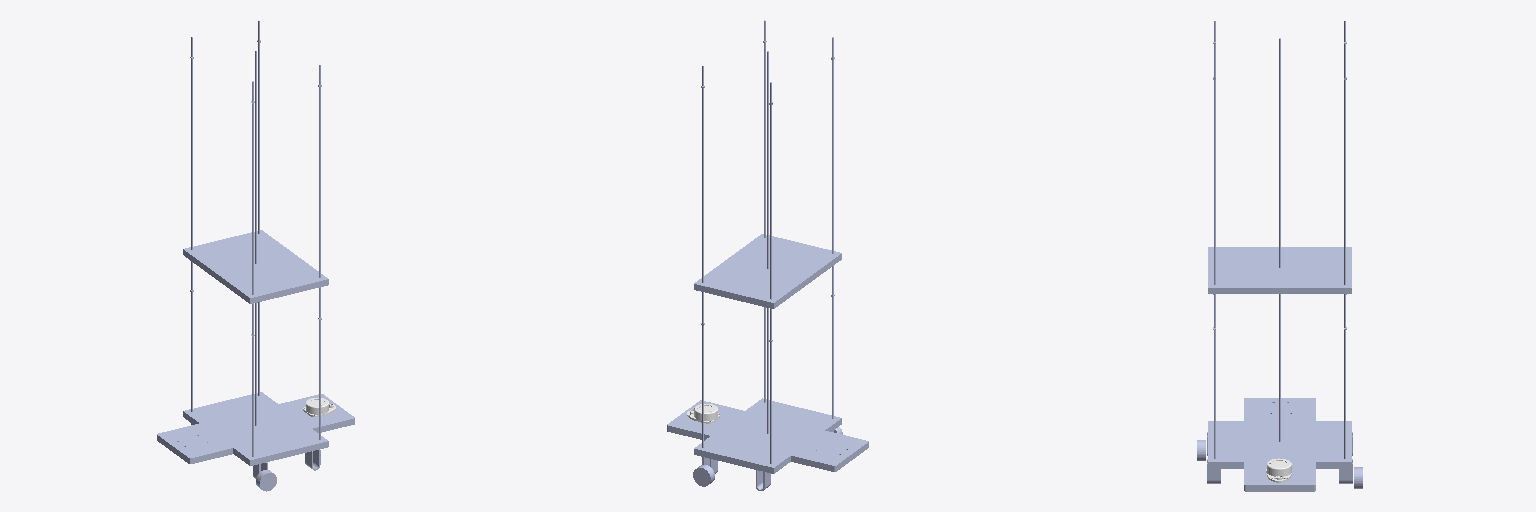
The robot description file, URDF, robot "lib_1":
<?xml version="1.0" encoding="utf-8"?>
<!-- This URDF was automatically created by SolidWorks to URDF Exporter! Originally created by [author] ([email redacted])
     Commit Version: 1.6.0-4-g7f85cfe  Build Version: 1.6.7995.38578
     For more information, please see http://wiki.ros.org/sw_urdf_exporter -->
<robot
  name="lib_1">

  <link
    name="base_link">
    <inertial>
      <origin
        xyz="-9.14954223496522E-12 2.15231305000785E-12 0.0100051501277164"
        rpy="0 0 0" />
      <mass
        value="3.58861992142899" />
      <inertia
        ixx="0.0488897827256441"
        ixy="-1.03993313544184E-07"
        ixz="-2.06962168622788E-14"
        iyy="0.0314899410488933"
        iyz="1.09764215579706E-14"
        izz="0.0481145837736092" />
    </inertial>
    <visual>
      <origin
        xyz="0 0 0"
        rpy="0 0 0" />
      <geometry>
        <mesh
          filename="package://lib_1/meshes/base_link.STL" />
      </geometry>
      <material
        name="">
        <color
          rgba="0.792156862745098 0.819607843137255 0.933333333333333 1" />
      </material>
    </visual>
    <collision>
      <origin
        xyz="0 0 0"
        rpy="0 0 0" />
      <geometry>
        <mesh
          filename="package://lib_1/meshes/base_link.STL" />
      </geometry>
    </collision>
  </link>
  
  <link
    name="left_f_wheel">
    <inertial>
      <origin
        xyz="0 -0.00951014997491817 -6.93889390390723E-18"
        rpy="0 0 0" />
      <mass
        value="0.0478131642517814" />
      <inertia
        ixx="1.43412607588861E-05"
        ixy="9.88848204082449E-22"
        ixz="-1.10391890826599E-21"
        iyy="2.455680675401E-05"
        iyz="-3.15974665806729E-22"
        izz="1.43412607588861E-05" />
    </inertial>
    <visual>
      <origin
        xyz="0 0 0"
        rpy="0 0 0" />
      <geometry>
        <mesh
          filename="package://lib_1/meshes/left_f_wheel.STL" />
      </geometry>
      <material
        name="">
        <color
          rgba="0.792156862745098 0.819607843137255 0.933333333333333 1" />
      </material>
    </visual>
    <collision>
      <origin
        xyz="0 0 0"
        rpy="0 0 0" />
      <geometry>
        <mesh
          filename="package://lib_1/meshes/left_f_wheel.STL" />
      </geometry>
    </collision>
  </link>
  <joint
    name="left_f_joint"
    type="continuous">
    <origin
      xyz="0.09 0.23 -0.07"
      rpy="0 0 0" />
    <parent
      link="base_link" />
    <child
      link="left_f_wheel" />
    <axis
      xyz="0 1 0" />
    <limit
      effort="1"
      velocity="1" />
  </joint>
  <link
    name="left_b_wheel">
    <inertial>
      <origin
        xyz="0 -0.00951014997491817 -3.46944695195361E-18"
        rpy="0 0 0" />
      <mass
        value="0.0478131642517815" />
      <inertia
        ixx="1.43412607588861E-05"
        ixy="9.92334259929659E-22"
        ixz="-1.10254027391173E-21"
        iyy="2.455680675401E-05"
        iyz="-3.196948795976E-22"
        izz="1.43412607588861E-05" />
    </inertial>
    <visual>
      <origin
        xyz="0 0 0"
        rpy="0 0 0" />
      <geometry>
        <mesh
          filename="package://lib_1/meshes/left_b_wheel.STL" />
      </geometry>
      <material
        name="">
        <color
          rgba="0.792156862745098 0.819607843137255 0.933333333333333 1" />
      </material>
    </visual>
    <collision>
      <origin
        xyz="0 0 0"
        rpy="0 0 0" />
      <geometry>
        <mesh
          filename="package://lib_1/meshes/left_b_wheel.STL" />
      </geometry>
    </collision>
  </link>
  <joint
    name="left_b_joint"
    type="continuous">
    <origin
      xyz="-0.09 0.23 -0.07"
      rpy="0 0 0" />
    <parent
      link="base_link" />
    <child
      link="left_b_wheel" />
    <axis
      xyz="0 1 0" />
    <limit
      effort="1"
      velocity="1" />
  </joint>
  <link
    name="right_f_wheel">
    <inertial>
      <origin
        xyz="0 0.0095101499749182 0"
        rpy="0 0 0" />
      <mass
        value="0.0478131642517814" />
      <inertia
        ixx="1.4341260758886E-05"
        ixy="-1.60709970315464E-21"
        ixz="1.76695081930573E-21"
        iyy="2.455680675401E-05"
        iyz="1.04709229357954E-22"
        izz="1.4341260758886E-05" />
    </inertial>
    <visual>
      <origin
        xyz="0 0 0"
        rpy="0 0 0" />
      <geometry>
        <mesh
          filename="package://lib_1/meshes/right_f_wheel.STL" />
      </geometry>
      <material
        name="">
        <color
          rgba="0.792156862745098 0.819607843137255 0.933333333333333 1" />
      </material>
    </visual>
    <collision>
      <origin
        xyz="0 0 0"
        rpy="0 0 0" />
      <geometry>
        <mesh
          filename="package://lib_1/meshes/right_f_wheel.STL" />
      </geometry>
    </collision>
  </link>
  <joint
    name="right_f_joint"
    type="continuous">
    <origin
      xyz="0.09 -0.23 -0.07"
      rpy="0 0 0" />
    <parent
      link="base_link" />
    <child
      link="right_f_wheel" />
    <axis
      xyz="0 1 0" />
    <limit
      effort="1"
      velocity="1" />
  </joint>
  <link
    name="right_b_wheel">
    <inertial>
      <origin
        xyz="-1.38777878078145E-17 0.0095101499749182 0"
        rpy="0 0 0" />
      <mass
        value="0.0478131642517814" />
      <inertia
        ixx="1.4341260758886E-05"
        ixy="-1.60500738832539E-21"
        ixz="1.76562401837202E-21"
        iyy="2.455680675401E-05"
        iyz="1.08061661847668E-22"
        izz="1.4341260758886E-05" />
    </inertial>
    <visual>
      <origin
        xyz="0 0 0"
        rpy="0 0 0" />
      <geometry>
        <mesh
          filename="package://lib_1/meshes/right_b_wheel.STL" />
      </geometry>
      <material
        name="">
        <color
          rgba="0.792156862745098 0.819607843137255 0.933333333333333 1" />
      </material>
    </visual>
    <collision>
      <origin
        xyz="0 0 0"
        rpy="0 0 0" />
      <geometry>
        <mesh
          filename="package://lib_1/meshes/right_b_wheel.STL" />
      </geometry>
    </collision>
  </link>
  <joint
    name="right_b_joint"
    type="continuous">
    <origin
      xyz="-0.09 -0.23 -0.07"
      rpy="0 0 0" />
    <parent
      link="base_link" />
    <child
      link="right_b_wheel" />
    <axis
      xyz="0 1 0" />
    <limit
      effort="1"
      velocity="1" />
  </joint>
  <link
    name="slider">
    <inertial>
      <origin
        xyz="0 -0.01 0"
        rpy="0 0 0" />
      <mass
        value="2.15803650459151" />
      <inertia
        ixx="0.0288210376812033"
        ixy="3.45089411799453E-22"
        ixz="-4.64904386721842E-18"
        iyy="0.0418503262816669"
        iyz="1.81595670281338E-20"
        izz="0.0131731577007696" />
    </inertial>
    <visual>
      <origin
        xyz="0 0 0"
        rpy="0 0 0" />
      <geometry>
        <mesh
          filename="package://lib_1/meshes/slider.STL" />
      </geometry>
      <material
        name="">
        <color
          rgba="0.792156862745098 0.819607843137255 0.933333333333333 1" />
      </material>
    </visual>
    <collision>
      <origin
        xyz="0 0 0"
        rpy="0 0 0" />
      <geometry>
        <mesh
          filename="package://lib_1/meshes/slider.STL" />
      </geometry>
    </collision>
  </link>
  <joint
    name="slider_joint"
    type="prismatic">
    <origin
      xyz="0 0 0.5315"
      rpy="1.5708 0 0" />
    <parent
      link="base_link" />
    <child
      link="slider" />
    <axis
      xyz="0 1 0" />
    <limit
      lower="-0.1"
      upper="0.1"
      effort="1"
      velocity="1" />
  </joint>
  <link
    name="lidar">
    <inertial>
      <origin
        xyz="0.00252160084218045 -6.50359202984674E-07 -0.00286338347039349"
        rpy="0 0 0" />
      <mass
        value="0.183160216307957" />
      <inertia
        ixx="7.19619932118137E-05"
        ixy="-2.50686402073651E-10"
        ixz="4.72694420571138E-06"
        iyy="9.03760878301006E-05"
        iyz="-1.50440167964167E-11"
        izz="0.000133937300739048" />
    </inertial>
    <visual>
      <origin
        xyz="0 0 0"
        rpy="0 0 0" />
      <geometry>
        <mesh
          filename="package://lib_1/meshes/lidar.STL" />
      </geometry>
      <material
        name="">
        <color
          rgba="1 1 1 1" />
      </material>
    </visual>
    <collision>
      <origin
        xyz="0 0 0"
        rpy="0 0 0" />
      <geometry>
        <mesh
          filename="package://lib_1/meshes/lidar.STL" />
      </geometry>
    </collision>
  </link>
  <joint
    name="lidar_joint"
    type="fixed">
    <origin
      xyz="0.20945 -0.0020017 0.0166"
      rpy="0 0 0" />
    <parent
      link="base_link" />
    <child
      link="lidar" />
    <axis
      xyz="0 0 0" />
  </joint>
  <!-- <gazebo>
     <plugin name="object_controller" filename="libgazebo_ros_planar_move.so">
      <commandTopic>cmd_vel</commandTopic>
      <odometryTopic>odom</odometryTopic>
      <odometryFrame>odom</odometryFrame>
      <odometryRate>20.0</odometryRate>
      <robotBaseFrame>base_link</robotBaseFrame>
    </plugin>
  </gazebo> -->
  <gazebo>
  <!-- <plugin name="differential_drive_controller" filename="libgazebo_ros_diff_drive.so">
    <alwaysOn>true</alwaysOn>
   
    <updateRate>40</updateRate>
    <leftJoint>left_wheel_joint</leftJoint>
    <rightJoint>right_wheel_joint</rightJoint>
    <commandTopic>cmd_vel</commandTopic>
    <odometryTopic>odom</odometryTopic>
    <odometryFrame>odom</odometryFrame>
    <robotBaseFrame>base_link</robotBaseFrame>
  </plugin> -->
  <plugin name="SkidSteerDrivePlugin"
        filename="skid_steer_drive/libDdsSkidSteerDrivePlugin.so">
    <dds_domain_id>0</dds_domain_id>
    <topic_name_twist>cmd_vel</topic_name_twist>
    <topic_name_odometry>odom</topic_name_odometry>
    <topic_name_joint>joint</topic_name_joint>
    <right_front_joint>right_f_wheel</right_front_joint>
    <right_rear_joint>right_b_wheel</right_rear_joint>
    <left_front_joint>left_f_wheel</left_front_joint>
    <left_rear_joint>left_b_wheel</left_rear_joint>
    <wheel_separation>0.4</wheel_separation>
    <wheel_diameter>0.15</wheel_diameter>
    <wheel_torque>5.0</wheel_torque>
    <update_rate>2</update_rate>
    <covariance_x>0.0001</covariance_x>
    <covariance_y>0.0001</covariance_y>
    <covariance_yaw>0.01</covariance_yaw>
</plugin>
</gazebo>
  <gazebo reference="lidar">
    <sensor type="ray" name="head_rplidar_sensor">
      <pose>0 0 0 0 0 0</pose>
      <visualize>true</visualize>
      <update_rate>40</update_rate>
      <ray>
        <scan>
          <horizontal>
            <samples>720</samples>
            <resolution>1</resolution>
            <min_angle>-1.57</min_angle>
            <max_angle>1.57</max_angle>
          </horizontal>
        </scan>
        <range>
          <min>0.2</min>
          <max>8</max>
          <resolution>0.01</resolution>
        </range>
        <noise>
          <type>gaussian</type>
          <mean>0.0</mean>
          <stddev>0.01</stddev>
        </noise>
      </ray>
      <plugin name="gazebo_ros_head_rplidar_controller" filename="libgazebo_ros_laser.so">
        <topicName>/scan</topicName>
        <frameName>lidar</frameName>
      </plugin>
    </sensor>
  </gazebo>
  <gazebo reference="base_link">
    <material>Gazebo/Red</material>
  </gazebo>
</robot>

--- Facts derived from the render (not from the file) ---
3 views of the same robot in one strip: view 1: azimuth 30°, elevation 25°; view 2: azimuth 150°, elevation 25°; view 3: azimuth 270°, elevation 25° (orthographic).
Model lib_1 with 7 links and 6 joints (4 continuous, 1 prismatic, 1 fixed), rooted at base_link, posed all joints at 0.
Visible links, largest first — view 1: base_link, slider; view 2: base_link, slider; view 3: base_link, slider, lidar.
Boxes of the visible links, <box> form: base_link: <box>157,21,354,478</box>; slider: <box>183,230,328,303</box>; base_link: <box>667,20,868,490</box>; slider: <box>694,234,841,308</box>; base_link: <box>1207,21,1352,491</box>; slider: <box>1208,247,1351,293</box>; lidar: <box>1266,458,1291,482</box>.
Size in the robot's own frame: 0.57 by 0.46 by 1.33 metres.
5 mesh visuals loaded from 7 distinct referenced files (5 binary STL); not drawn: 2 (reference not matched to a file when rendering).
